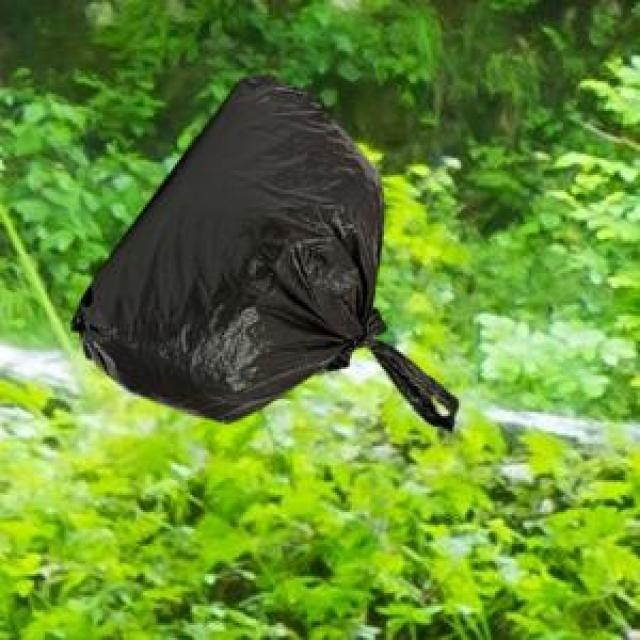Trashbag: (64, 70, 465, 461)
